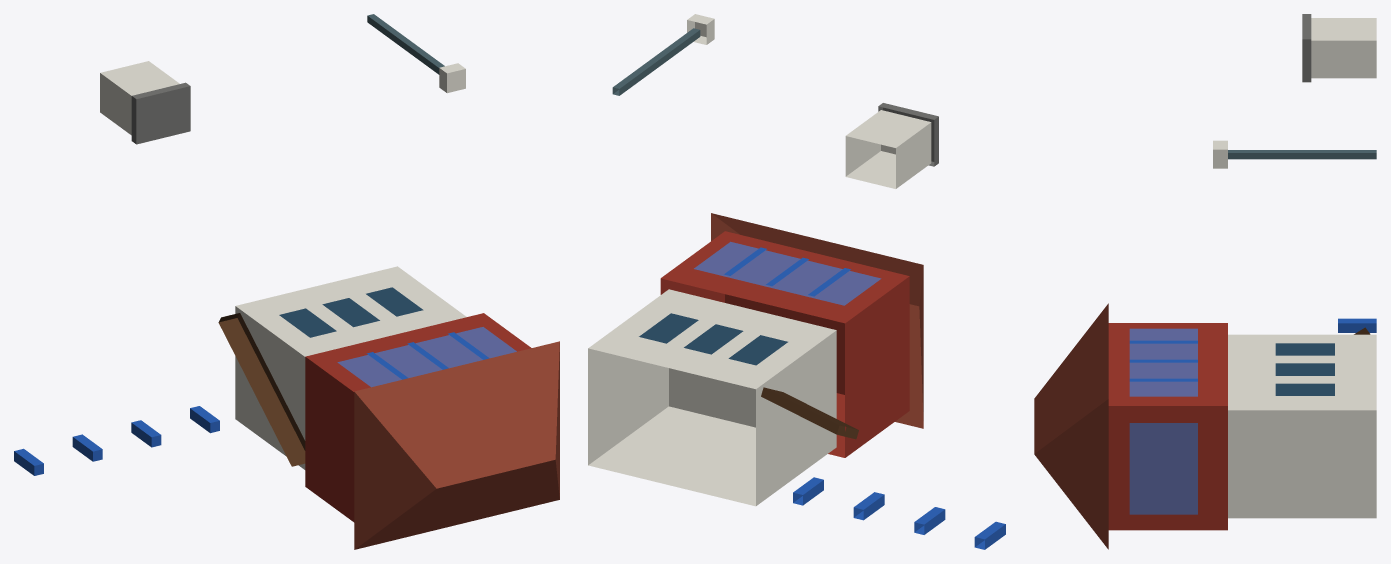
3 views of the same model, side by side, from view 1: azimuth 30°, elevation 25°; view 2: azimuth 150°, elevation 25°; view 3: azimuth 270°, elevation 25° (orthographic). The views are drawn at different scales.
Visible parts, largest first — view 1: waypoint_rail_default; view 2: waypoint_rail_default; view 3: waypoint_rail_default.
Part boxes in pixels (bbox=[...]): waypoint_rail_default: bbox=[14, 14, 559, 549]; waypoint_rail_default: bbox=[588, 14, 1005, 549]; waypoint_rail_default: bbox=[1034, 14, 1376, 549].
Bounding box in the file's own units: 14.98 × 14.3 × 11.5.
